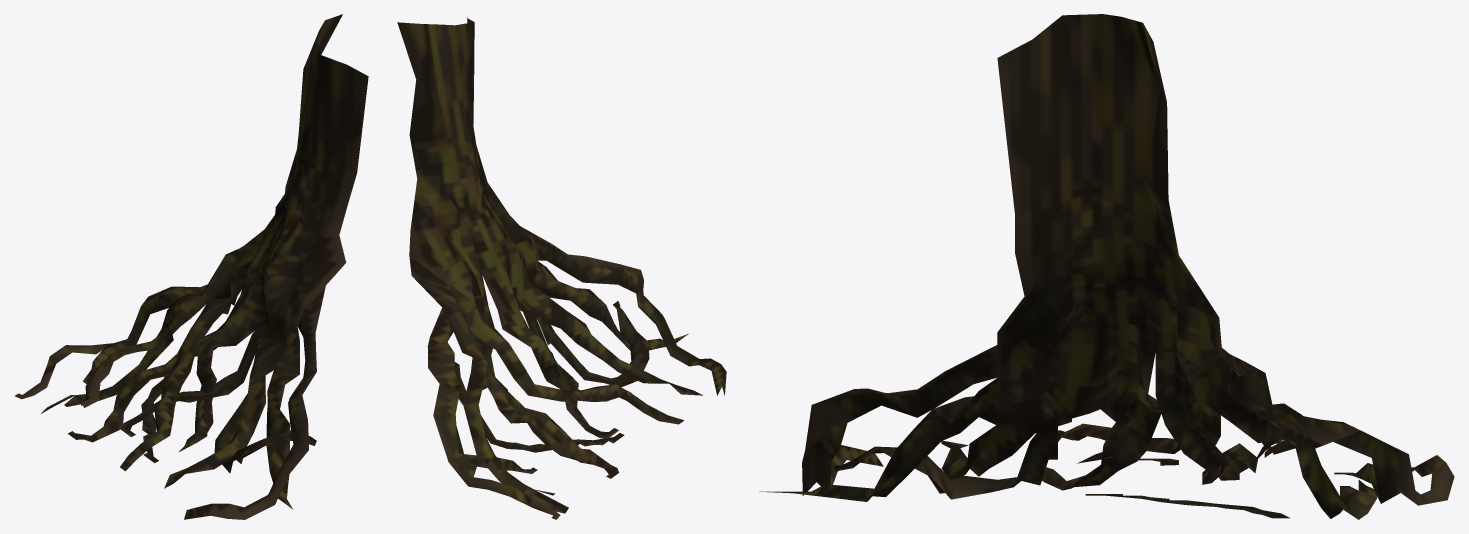
The model's file is EnvFldMD_Tree_G_Treehouse_Outdoor_Stem.FBX.
3 renders of one model, left to right at view 1: azimuth 30°, elevation 25°; view 2: azimuth 150°, elevation 25°; view 3: azimuth 270°, elevation 25°, orthographic. The views are drawn at different scales.
Visible parts, largest first — view 1: EnvFldMD_Tree_G_Treehouse_Outdoor_Stem; view 2: EnvFldMD_Tree_G_Treehouse_Outdoor_Stem; view 3: EnvFldMD_Tree_G_Treehouse_Outdoor_Stem.
Boxes of the visible parts, bbox=[...] form: EnvFldMD_Tree_G_Treehouse_Outdoor_Stem: bbox=[15, 14, 368, 519]; EnvFldMD_Tree_G_Treehouse_Outdoor_Stem: bbox=[397, 17, 726, 519]; EnvFldMD_Tree_G_Treehouse_Outdoor_Stem: bbox=[759, 14, 1454, 519].
Size of the model in its own units: 255 by 376 by 375.
Materials: 1 (1 with a texture image).
